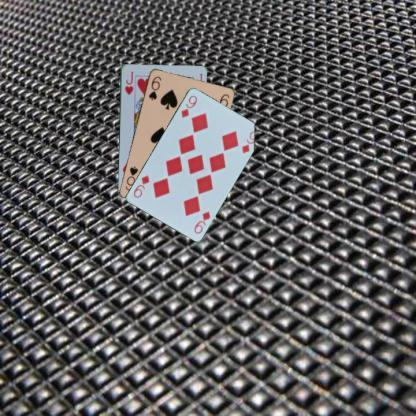6s: (146, 73, 162, 101)
9d: (178, 92, 198, 118), (192, 209, 212, 235)
Jh: (122, 69, 134, 96)
